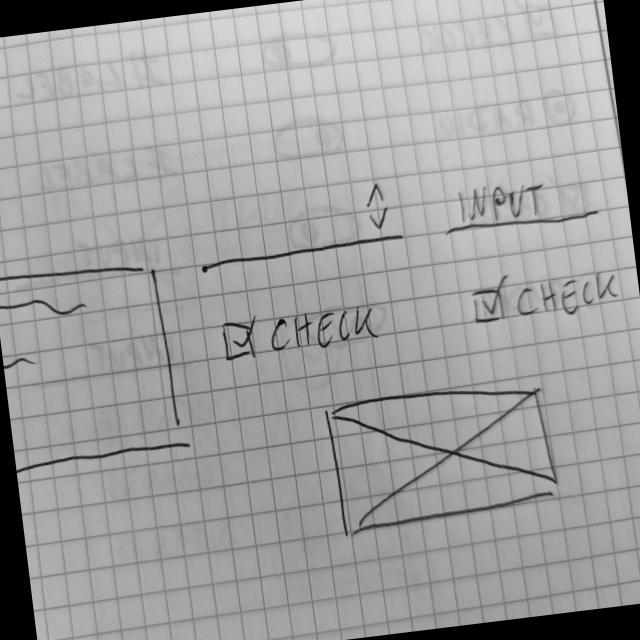checkbox: (220, 298, 385, 366), (469, 260, 627, 329)
image: (322, 374, 565, 539)
input: (437, 166, 603, 241)
number-input: (192, 177, 413, 275)
textarea: (1, 253, 187, 485)
